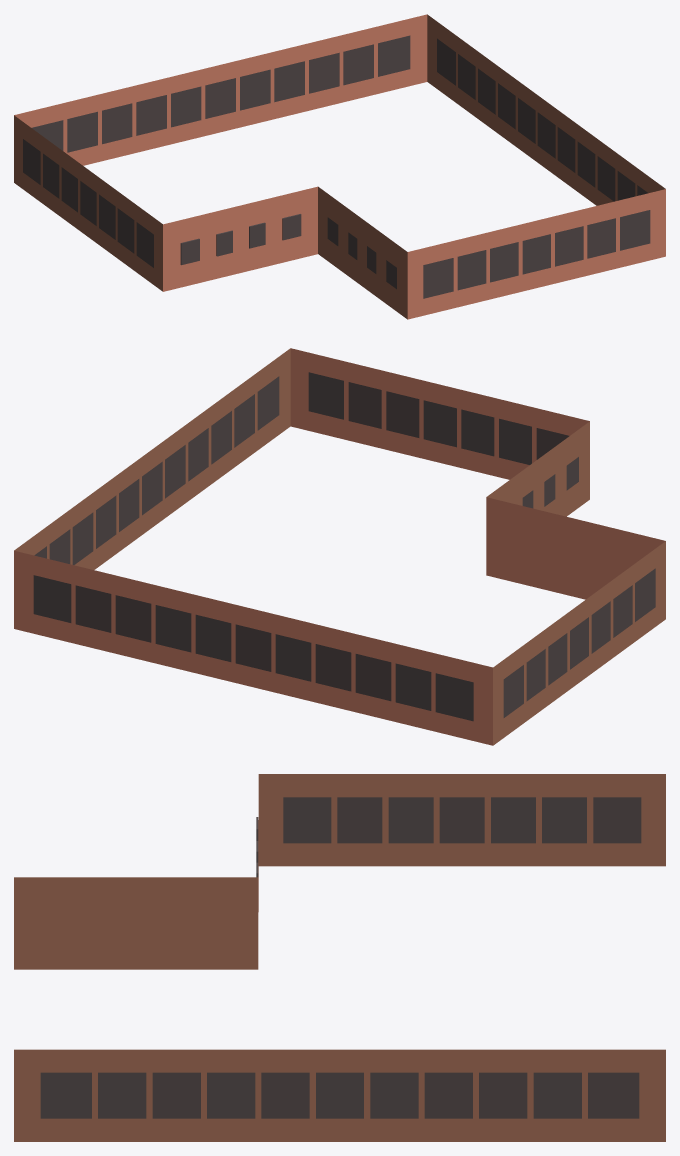
Rendered from TB_CITY_Skysc_P_BodyB_Brown.FBX.
3 renders of one model, top to bottom at view 1: azimuth 30°, elevation 25°; view 2: azimuth 150°, elevation 25°; view 3: azimuth 270°, elevation 25°, orthographic. The views are drawn at different scales.
Parts seen in each view (by area): view 1: TB_CITY_Skysc_P_BodyB_Brown; view 2: TB_CITY_Skysc_P_BodyB_Brown; view 3: TB_CITY_Skysc_P_BodyB_Brown.
Part boxes in pixels (x1,y1,x2,y2): TB_CITY_Skysc_P_BodyB_Brown: [14, 14, 665, 319]; TB_CITY_Skysc_P_BodyB_Brown: [14, 348, 665, 745]; TB_CITY_Skysc_P_BodyB_Brown: [14, 774, 665, 1141].
Size of the model in its own units: 32 by 5 by 32.
